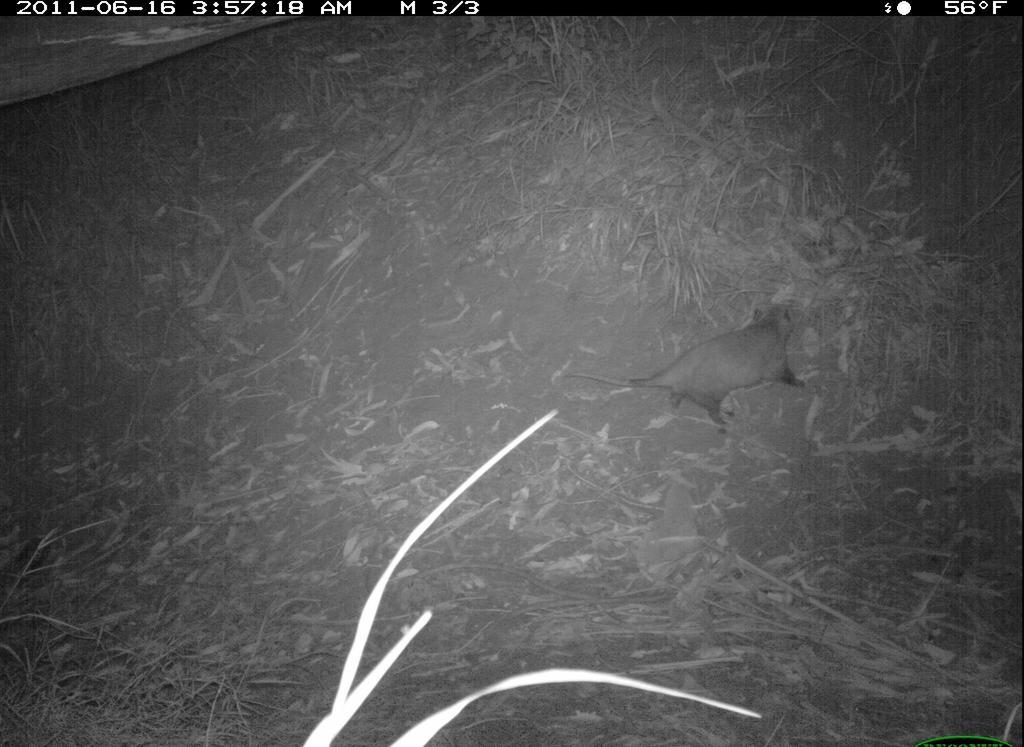opossum: (564, 295, 817, 432)
